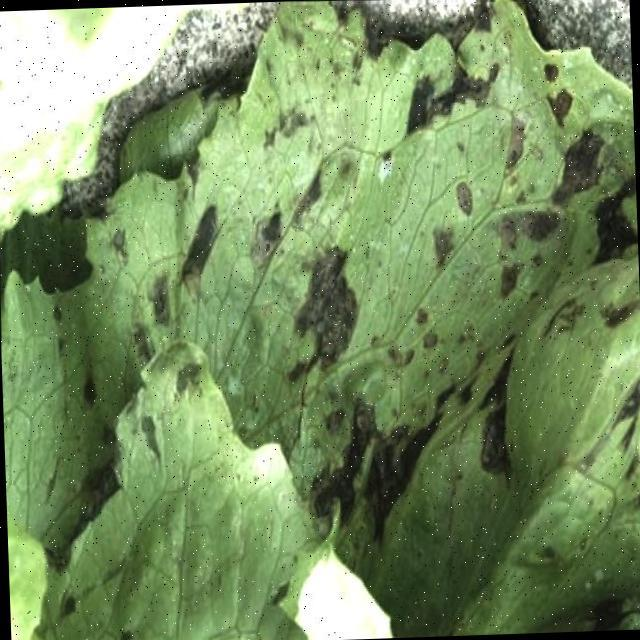Healthy: (255, 148, 538, 562)
